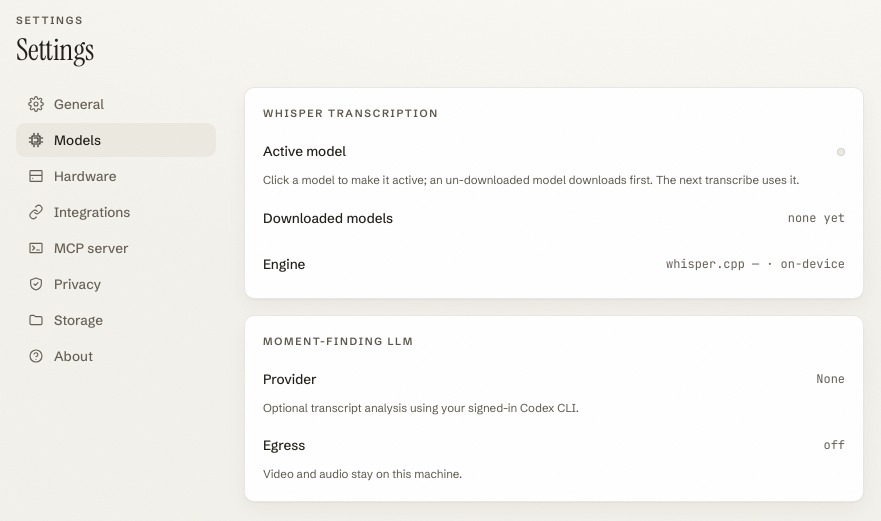
privacy settings UI › keeps privacy controls disabled until settings load
Click the button "Privacy": (116, 284) [16,267,216,301]
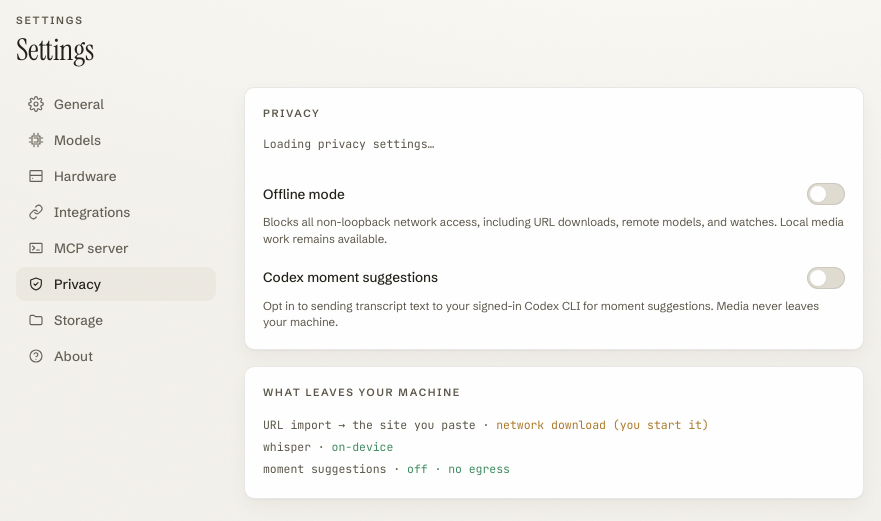
Expected: the switch named "Offline mode" is disabled, [807,183,845,205]
Expected: the switch named "Codex moment suggestions" is disabled, [807,267,845,289]
